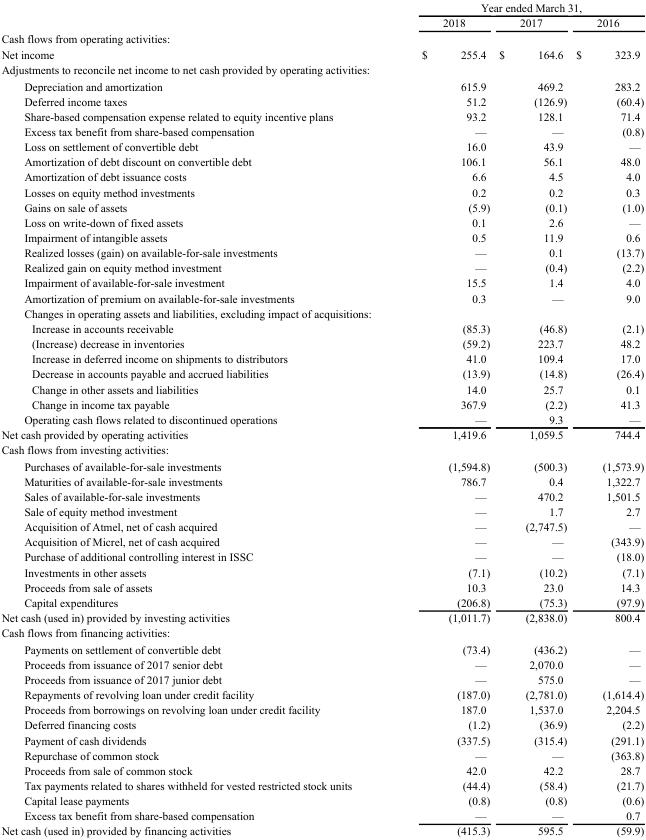table: (0, 1, 643, 836)
table column: (0, 1, 386, 836), (386, 1, 493, 836), (493, 1, 570, 836), (570, 1, 643, 836)
table column header: (0, 1, 643, 30)
table projected row header: (0, 61, 643, 77), (0, 441, 643, 457), (0, 624, 643, 640), (0, 30, 643, 45), (0, 305, 643, 320)
table row: (0, 14, 643, 30), (0, 45, 643, 61), (0, 61, 643, 77), (0, 77, 643, 93), (0, 153, 643, 169), (0, 259, 643, 275), (0, 365, 643, 381), (0, 441, 643, 457), (0, 457, 643, 473), (0, 533, 643, 549), (0, 624, 643, 640), (0, 640, 643, 656), (0, 716, 643, 732), (0, 807, 643, 823), (0, 30, 643, 45), (0, 93, 643, 108), (0, 108, 643, 123), (0, 123, 643, 138), (0, 138, 643, 153), (0, 169, 643, 184), (0, 184, 643, 199), (0, 199, 643, 214), (0, 214, 643, 229), (0, 229, 643, 244), (0, 244, 643, 259), (0, 275, 643, 290), (0, 290, 643, 305), (0, 305, 643, 320), (0, 320, 643, 335), (0, 335, 643, 350), (0, 350, 643, 365), (0, 381, 643, 396), (0, 396, 643, 411), (0, 411, 643, 426), (0, 426, 643, 441), (0, 473, 643, 488), (0, 488, 643, 503), (0, 503, 643, 518), (0, 518, 643, 533), (0, 549, 643, 564), (0, 564, 643, 579), (0, 579, 643, 594), (0, 594, 643, 609), (0, 609, 643, 624), (0, 656, 643, 671), (0, 671, 643, 686), (0, 686, 643, 701), (0, 701, 643, 716), (0, 732, 643, 747), (0, 747, 643, 762), (0, 762, 643, 777), (0, 777, 643, 792), (0, 792, 643, 807), (0, 1, 643, 14), (0, 823, 643, 836)
table spanning cell: (386, 1, 643, 14)
